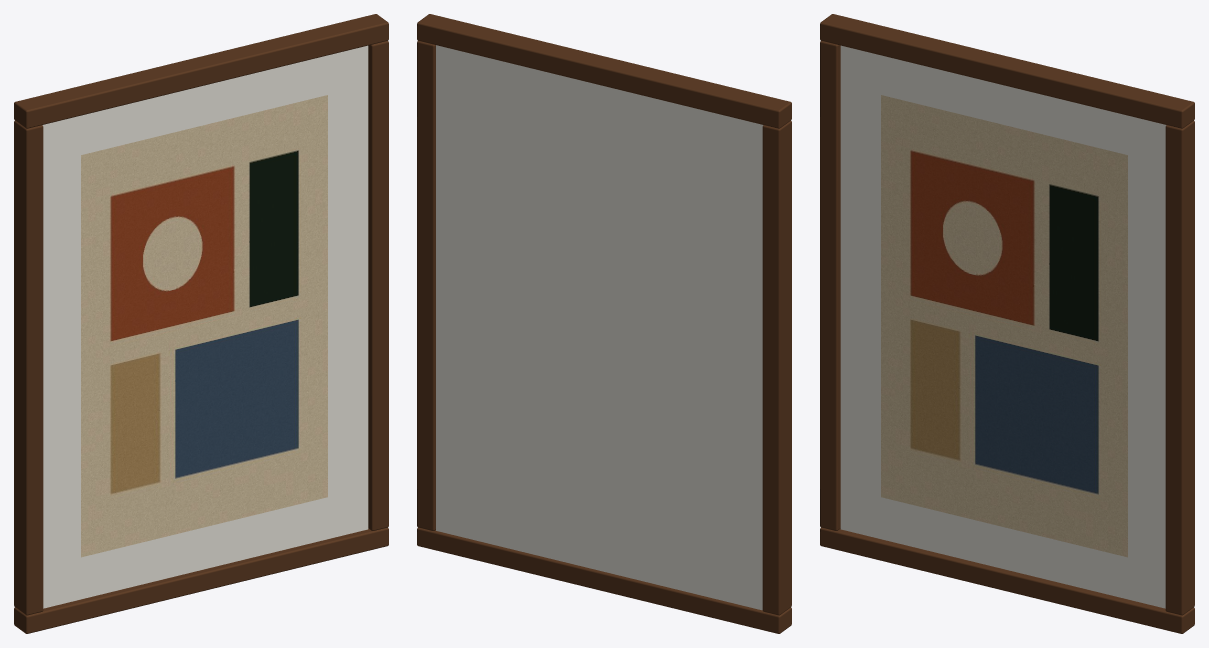
File: quadro_blocos.glb
The picture shows the model from 3 angles, left to right: view 1: azimuth 30°, elevation 25°; view 2: azimuth 150°, elevation 25°; view 3: azimuth 330°, elevation 25°; orthographic projection.
Parts seen in each view (by area): view 1: q_pintura, q_passe, q_moldura_l, q_moldura_t, q_moldura_r, q_moldura_b; view 2: q_passe, q_moldura_l, q_moldura_t, q_moldura_r, q_moldura_b; view 3: q_pintura, q_passe, q_moldura_r, q_moldura_t, q_moldura_l, q_moldura_b.
Part boxes in pixels (left/top/right/bottom): q_pintura: left=81, top=95, right=327, bottom=557; q_passe: left=42, top=45, right=368, bottom=608; q_moldura_l: left=14, top=121, right=43, bottom=615; q_moldura_t: left=14, top=14, right=388, bottom=128; q_moldura_r: left=368, top=41, right=388, bottom=530; q_moldura_b: left=14, top=527, right=388, bottom=633; q_passe: left=436, top=45, right=763, bottom=610; q_moldura_l: left=762, top=121, right=791, bottom=615; q_moldura_t: left=417, top=14, right=791, bottom=128; q_moldura_r: left=417, top=41, right=435, bottom=530; q_moldura_b: left=417, top=527, right=791, bottom=633; q_pintura: left=881, top=95, right=1127, bottom=557; q_passe: left=840, top=45, right=1166, bottom=608; q_moldura_r: left=1165, top=121, right=1194, bottom=615; q_moldura_t: left=820, top=14, right=1194, bottom=128; q_moldura_l: left=820, top=41, right=840, bottom=530; q_moldura_b: left=820, top=527, right=1194, bottom=633.
Size of the model in its own units: 0.45 by 0.62 by 0.028.
3 materials, 1 textured.
